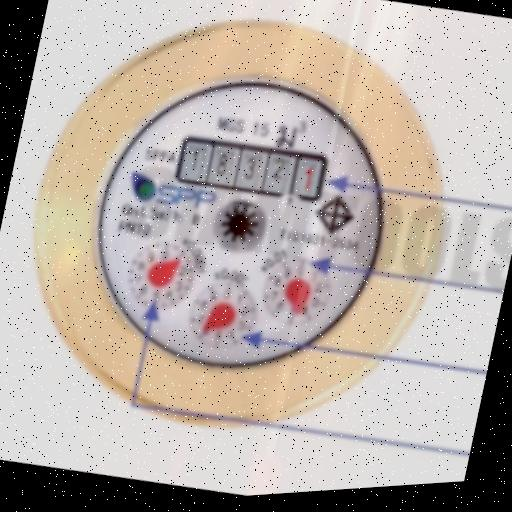1: (183, 145, 206, 182), (298, 162, 319, 196)
2: (268, 158, 289, 194)
3: (239, 153, 262, 189)
8: (211, 149, 233, 185)
border_water_meter_number: (173, 124, 331, 214)
